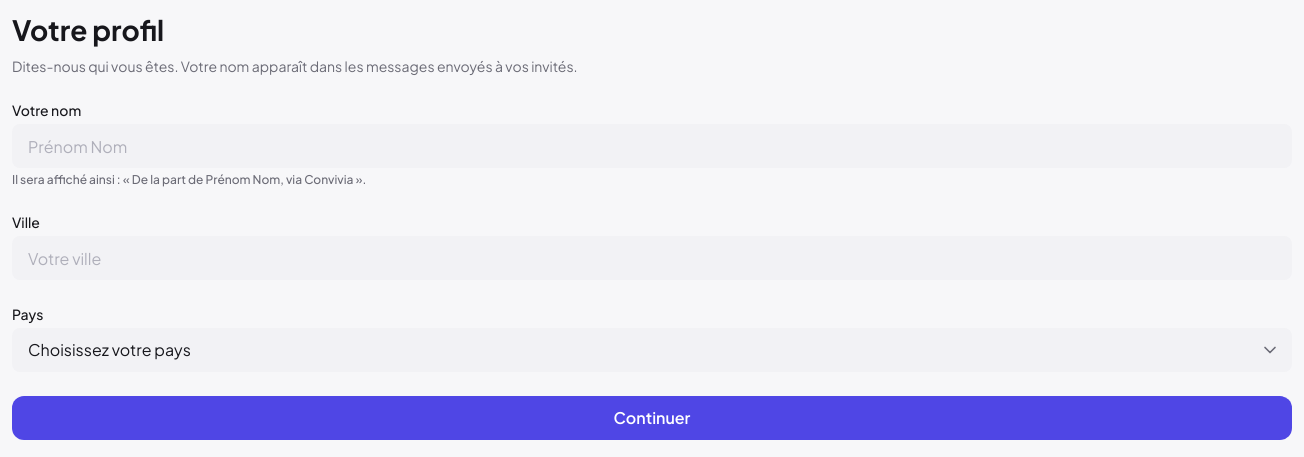
Scenario: ProfileForm › refuse un nom plus long que la limite fournie
Type "Awa Kossi" into the field labelled "Votre nom".
click(652, 146); type("Awa Kossi")  # box 12,124 -> 1292,168
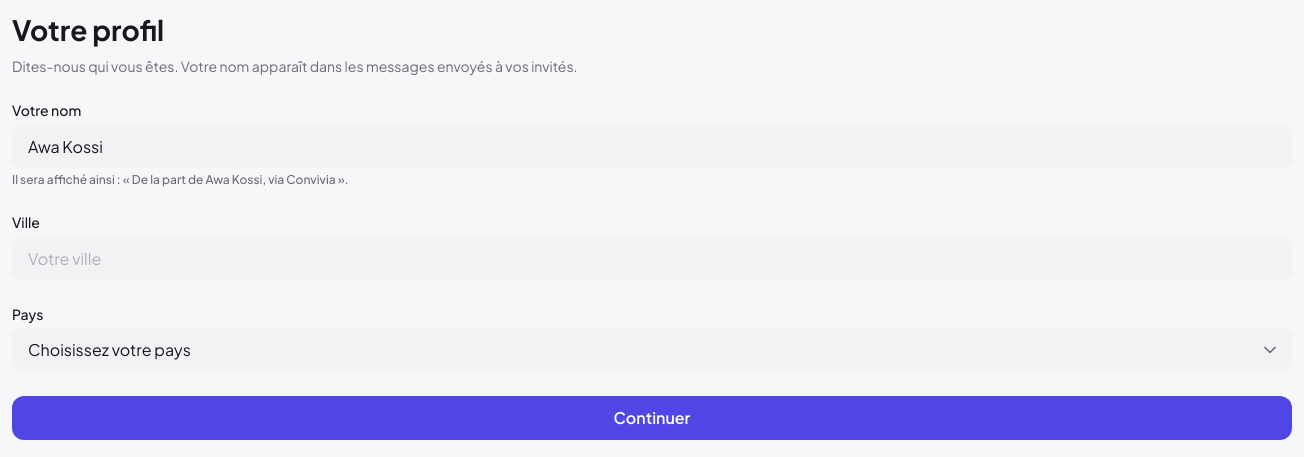
Type "Lomé" into the field labelled "Ville".
click(652, 258); type("Lomé")  # box 12,236 -> 1292,280
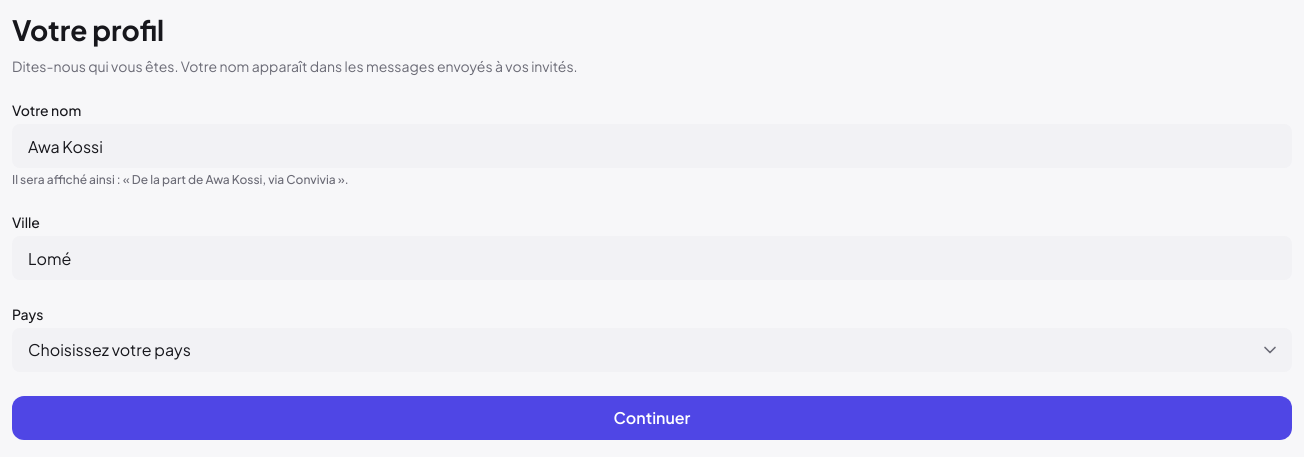
Select "Togo" in the dropdown labelled "Pays" at (652, 350), box 12,328 -> 1292,372
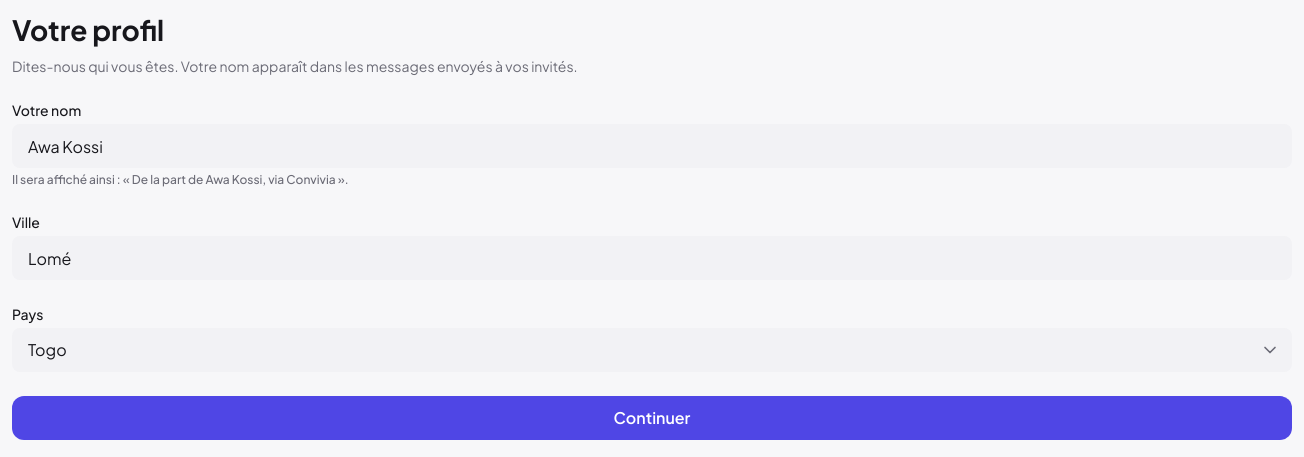
Click the button "Continuer".
click(652, 418)  # box 12,396 -> 1292,440
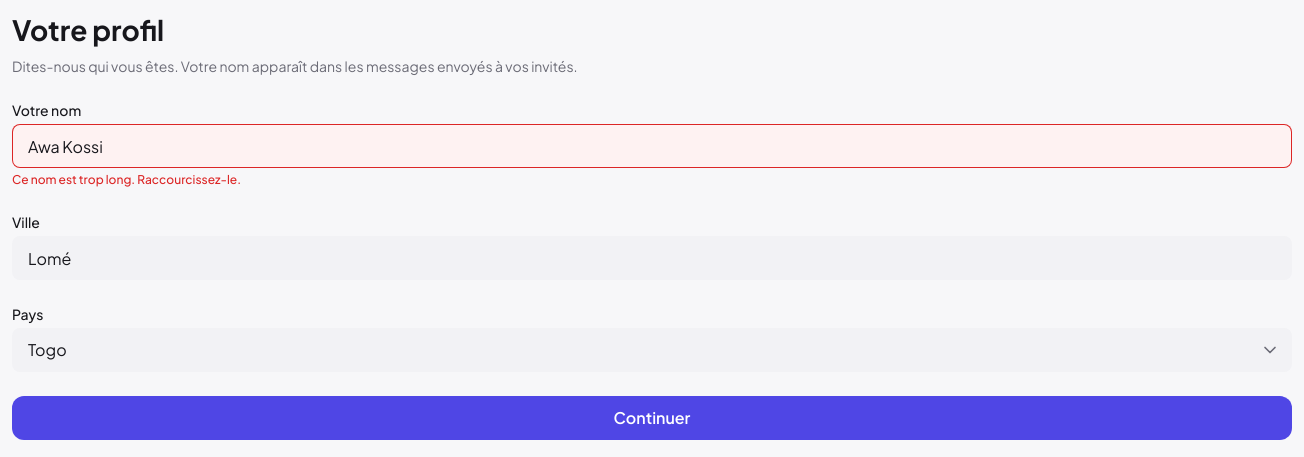
Now the message reads "Ce nom est trop long. Raccourcissez-le.", box 12,172 -> 241,187
